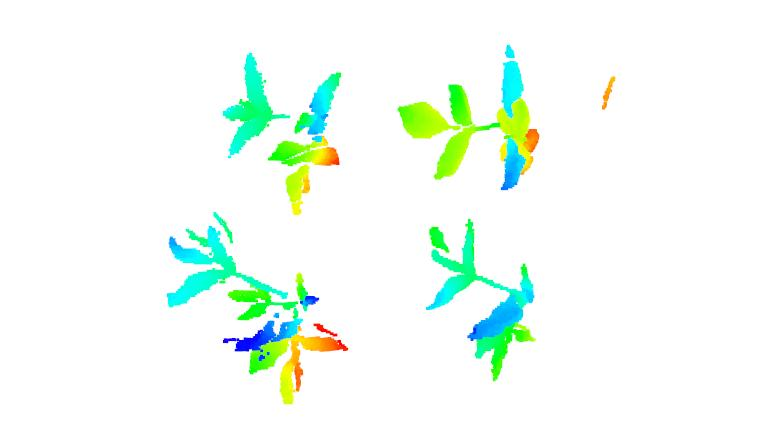mungbean: (160, 213, 354, 405), (396, 44, 547, 188), (219, 50, 352, 211), (422, 218, 542, 383)
